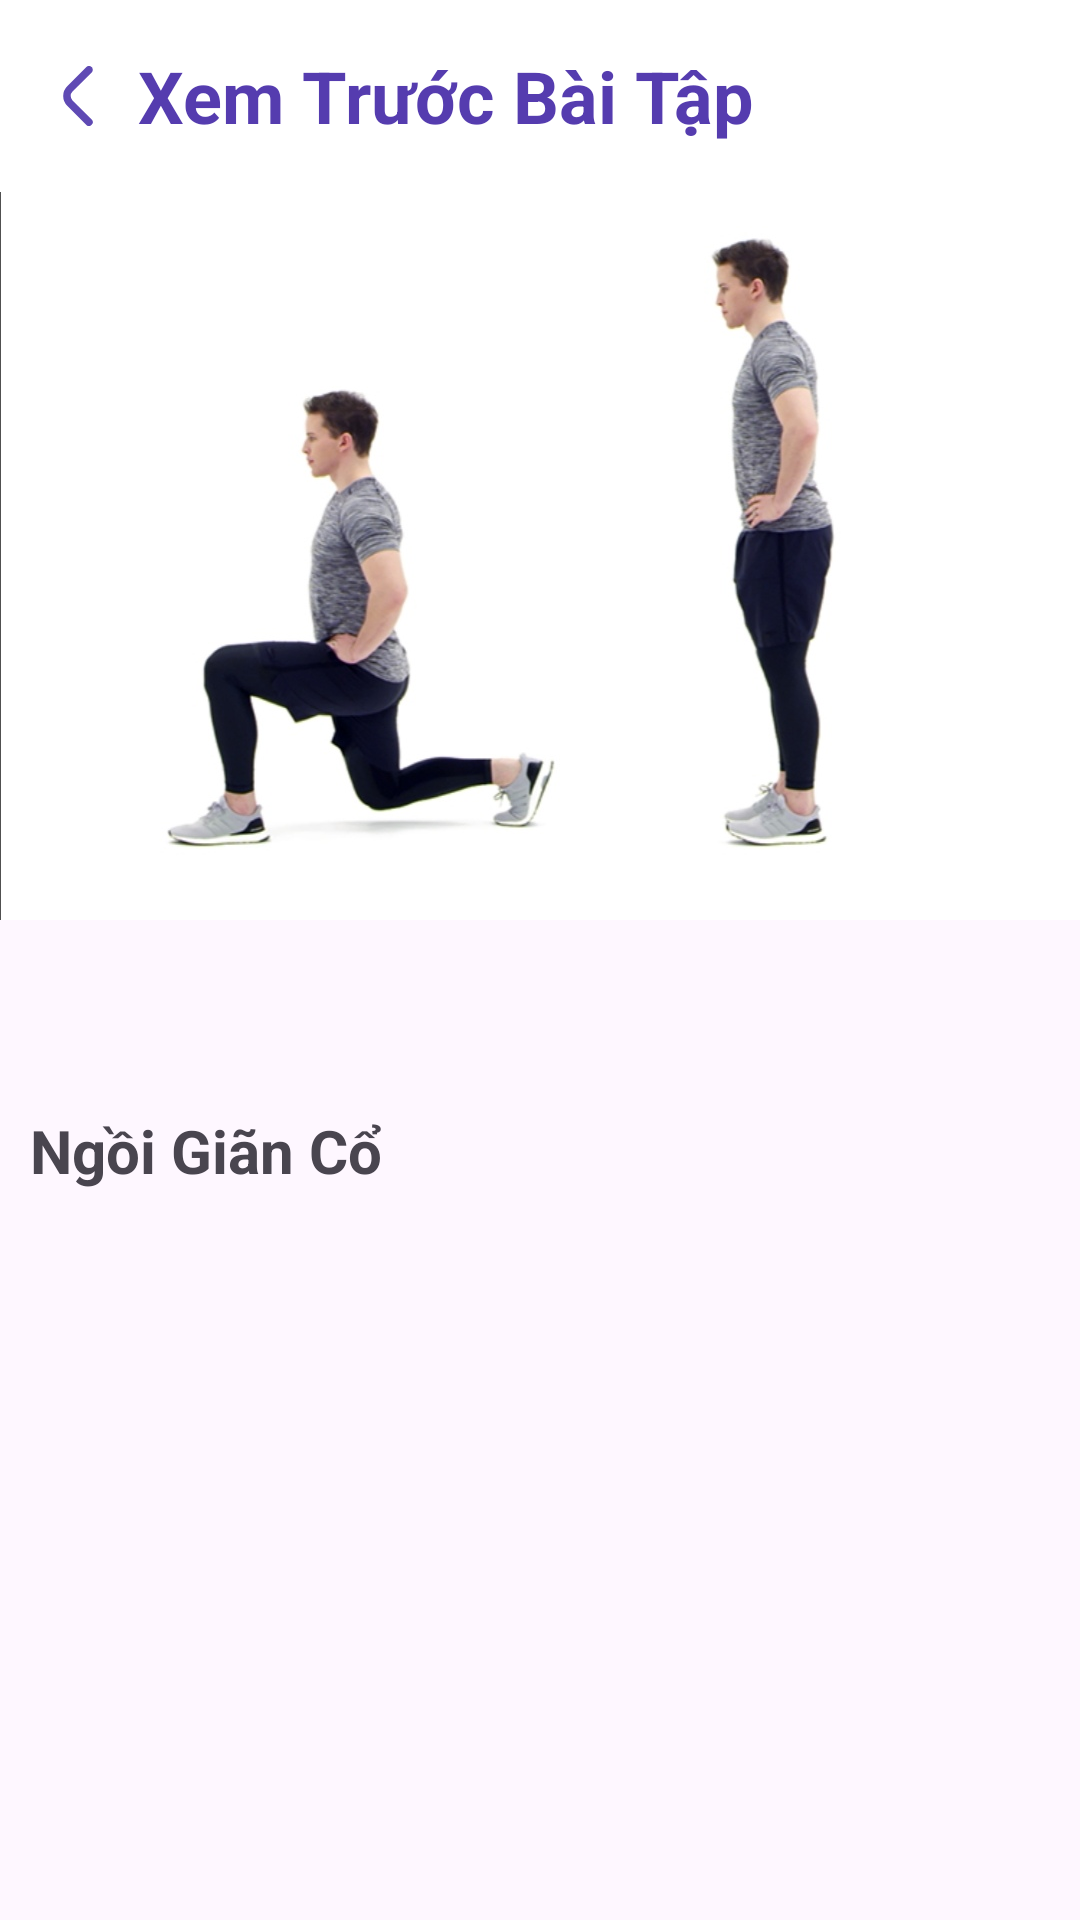

Icon bounding boxes for this 1080x1920 phone screenshot, format [x1,y1,x2,y2]:
back: [63,66,93,126]
